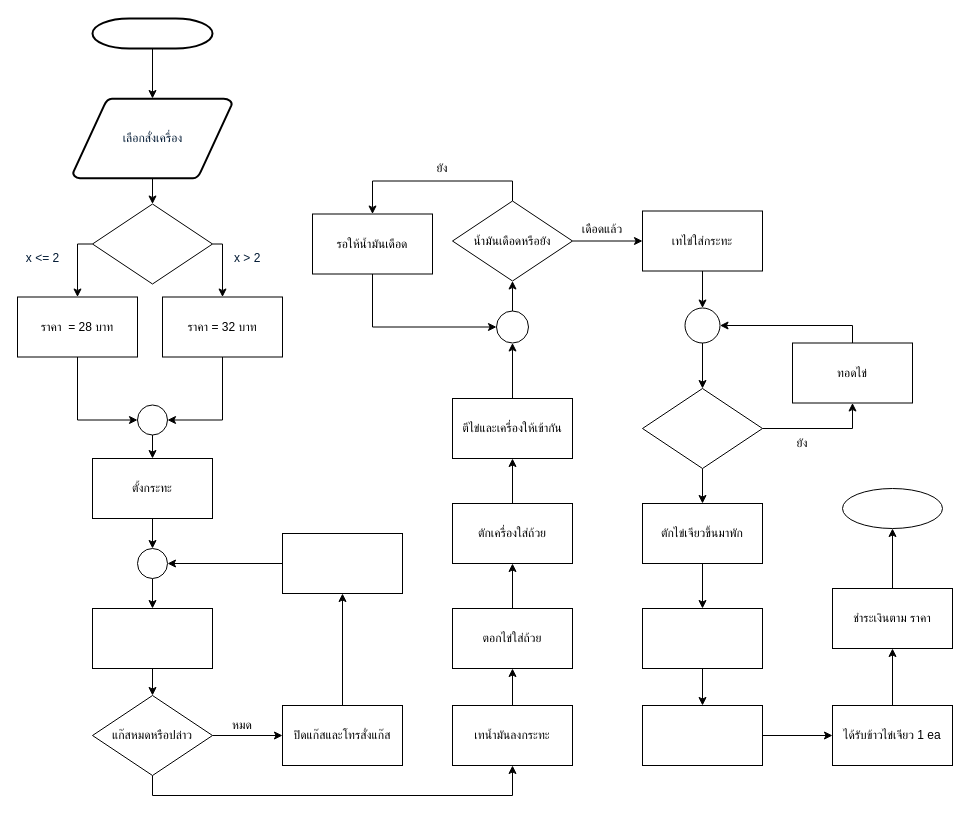
Some shapes in this 970 by 821 pixel diagram are drawn without their labels. The centre of each missing label's shape, as x and y in pixels:
"end" goes at (892,508).
"start" goes at (152,33).
"x = จำนวนเครื่องที่ใส่" goes at (152,243).
"ตักข้าวใส่กล่อง" goes at (702,638).
"ตักไข่เจียวใส่กล่องข้าว" goes at (702,735).
"เปิดเตาแก๊ส" goes at (152,638).
"ไข่สุกดีหรือยัง" goes at (702,428).
"ได้รับแก๊ส" goes at (342,563).
